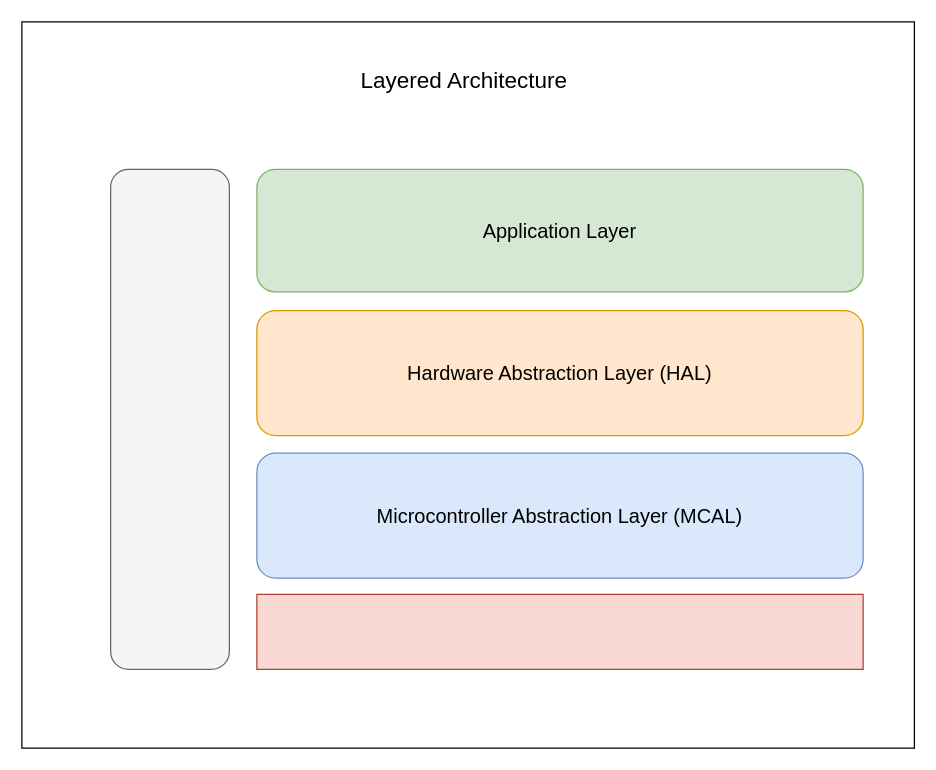
Some shapes in this 936 by 770 pixel diagram are drawn without their labels. Here are the shapes that lost their labels. From the top down, the box of each, then its label:
(109, 168, 229, 669): Library
(256, 593, 863, 669): Microcontroller
